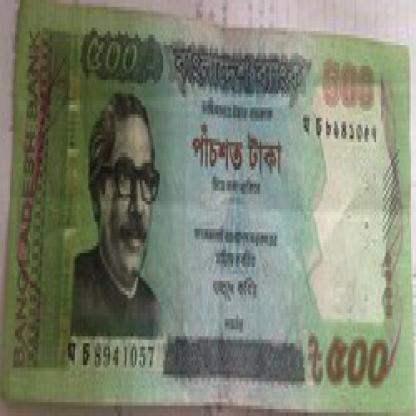500 taka: (310, 315, 394, 382), (320, 48, 382, 138), (73, 31, 145, 80)
currency: (12, 3, 409, 406)
